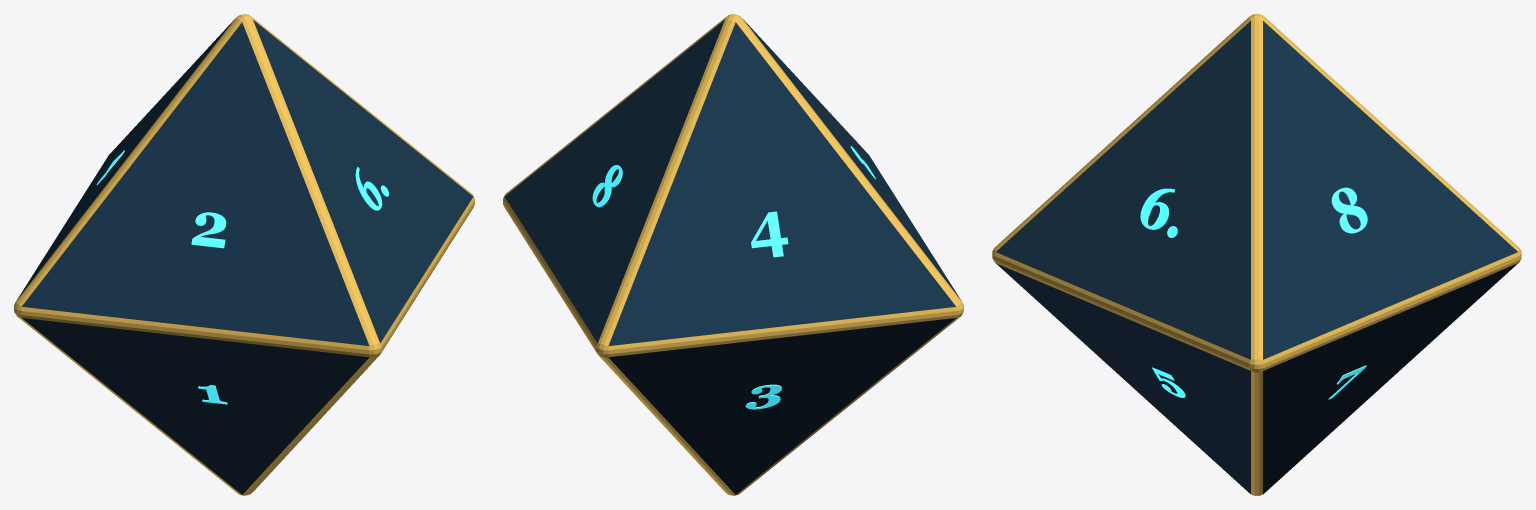
The model's file is d8_leo.glb.
3 views of the same model, side by side, from view 1: azimuth 30°, elevation 25°; view 2: azimuth 150°, elevation 25°; view 3: azimuth 270°, elevation 25° (orthographic).
Parts seen in each view (by area): view 1: DiceBody, Number_02, Number_06; view 2: DiceBody, Number_04, Number_08, Number_03; view 3: DiceBody, Number_08, Number_06.
Boxes of the visible parts, x1,y1,x2,y2 form: DiceBody: (14,14,474,495); Number_02: (191,212,226,248); Number_06: (355,167,388,210); DiceBody: (503,14,963,495); Number_04: (751,211,788,257); Number_08: (592,165,622,207); Number_03: (745,384,781,409); DiceBody: (992,14,1521,495); Number_08: (1331,187,1367,233); Number_06: (1140,188,1177,237).
Bounding box in the file's own units: 3.87 × 3.87 × 3.87.
